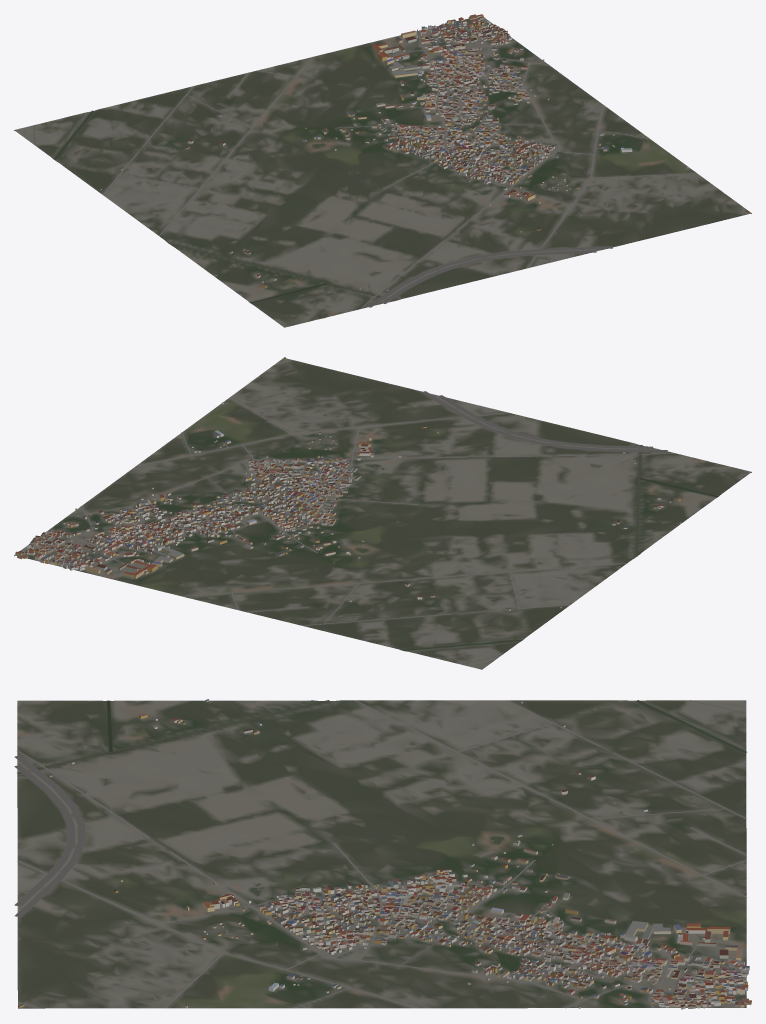
The picture shows the model from 3 angles, top to bottom: view 1: azimuth 30°, elevation 25°; view 2: azimuth 150°, elevation 25°; view 3: azimuth 270°, elevation 25°; orthographic projection. The views are drawn at different scales.
Parts seen in each view (by area): view 1: ground, buildings, roads, water; view 2: ground, buildings, roads, water; view 3: ground, buildings, roads, water.
Boxes of the visible parts, x1=… form: ground: x1=14, y1=18, x2=751, y2=327; buildings: x1=100, y1=14, x2=750, y2=290; roads: x1=33, y1=17, x2=697, y2=308; water: x1=53, y1=110, x2=491, y2=316; ground: x1=14, y1=358, x2=751, y2=669; buildings: x1=15, y1=357, x2=681, y2=610; roads: x1=22, y1=391, x2=674, y2=664; water: x1=355, y1=445, x2=718, y2=650; ground: x1=17, y1=700, x2=746, y2=1008; buildings: x1=18, y1=699, x2=751, y2=1009; roads: x1=14, y1=700, x2=746, y2=1008; water: x1=17, y1=700, x2=746, y2=895.
Bounding box in the file's own units: 1411 × 15.4 × 1419.
